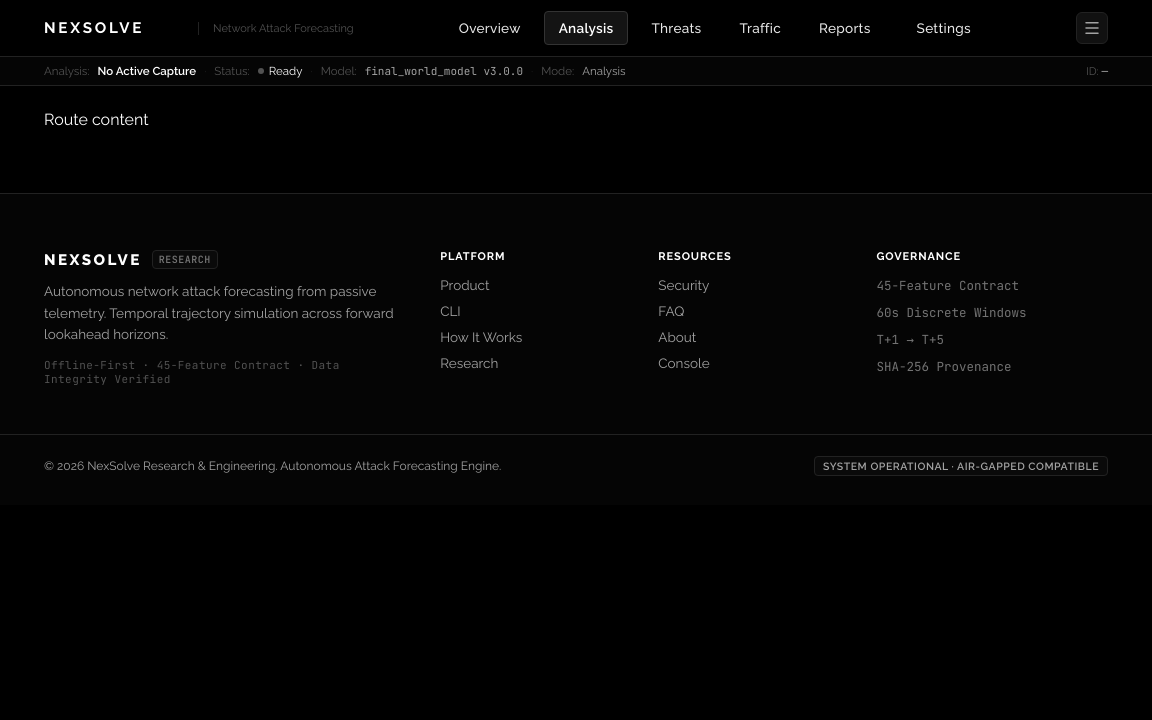
Test case: Application Header & Navigation Layout › contains all required navigation links in the command drawer menu
The image size is (1152, 720).
Click the button named "Open navigation menu" at (1092, 28), box [1076,12,1108,44]
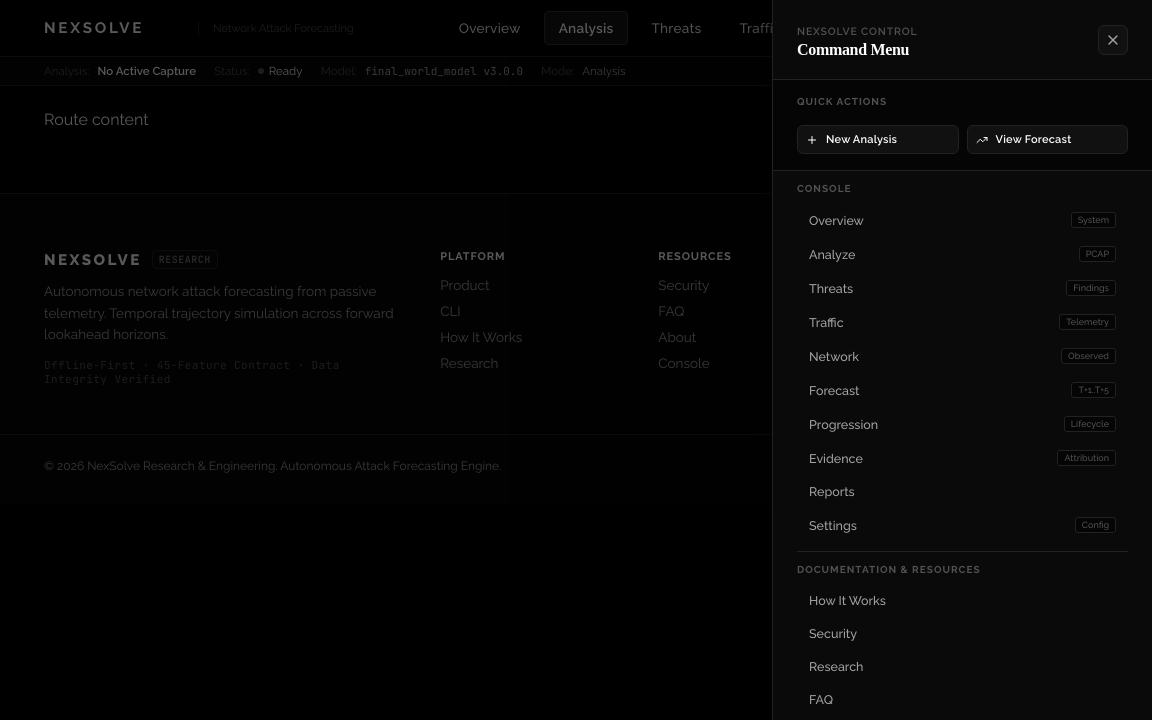
Check: the navigation bar named "Application menu" is shown, box [773,171,1151,719]
Check: the link "Overview System" is shown, box [809,212,1116,228]
Check: the link "Analyze PCAP" is shown, box [809,246,1116,262]
